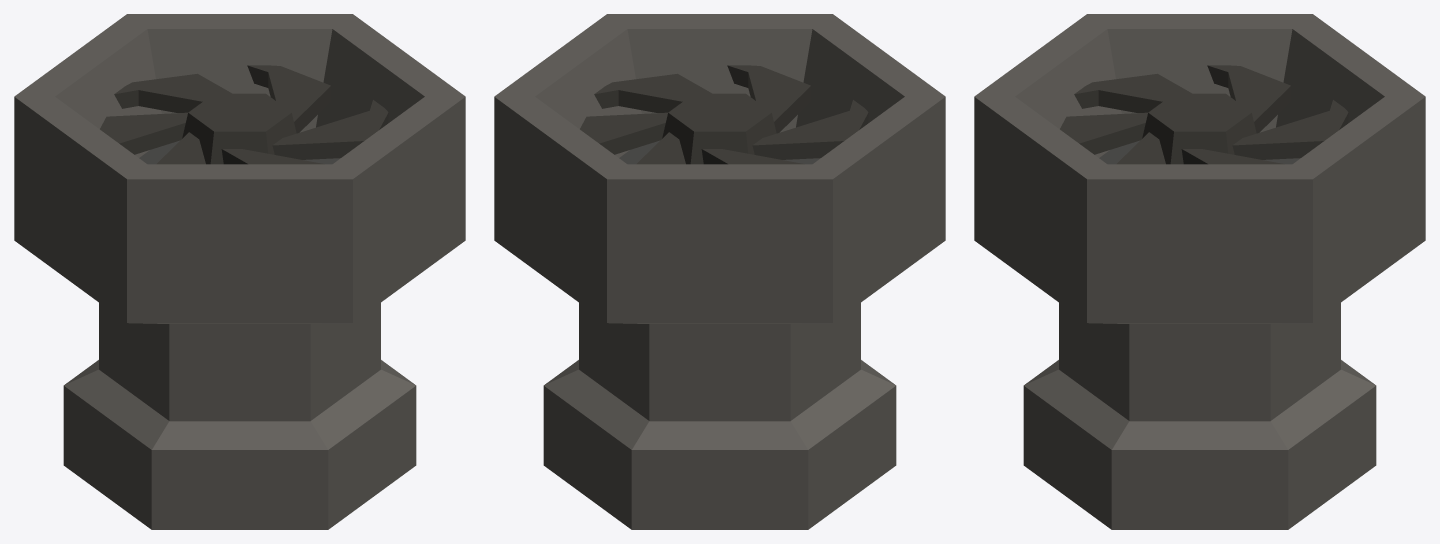
File: SM_Props_Roof_Chimney_05.fbx
3 renders of one model, left to right at view 1: azimuth 30°, elevation 25°; view 2: azimuth 150°, elevation 25°; view 3: azimuth 270°, elevation 25°, orthographic.
Visible parts, largest first — view 1: SM_Props_Roof_Chimney_05, SM_Props_Roof_Chimney_05_Fan; view 2: SM_Props_Roof_Chimney_05, SM_Props_Roof_Chimney_05_Fan; view 3: SM_Props_Roof_Chimney_05, SM_Props_Roof_Chimney_05_Fan.
Part boxes in pixels (<box>): SM_Props_Roof_Chimney_05: <box>14,14,465,529</box>; SM_Props_Roof_Chimney_05_Fan: <box>100,65,388,164</box>; SM_Props_Roof_Chimney_05: <box>494,14,945,529</box>; SM_Props_Roof_Chimney_05_Fan: <box>580,65,868,164</box>; SM_Props_Roof_Chimney_05: <box>974,14,1425,529</box>; SM_Props_Roof_Chimney_05_Fan: <box>1060,65,1348,164</box>.
Bounding box in the file's own units: 140 × 145 × 161.
